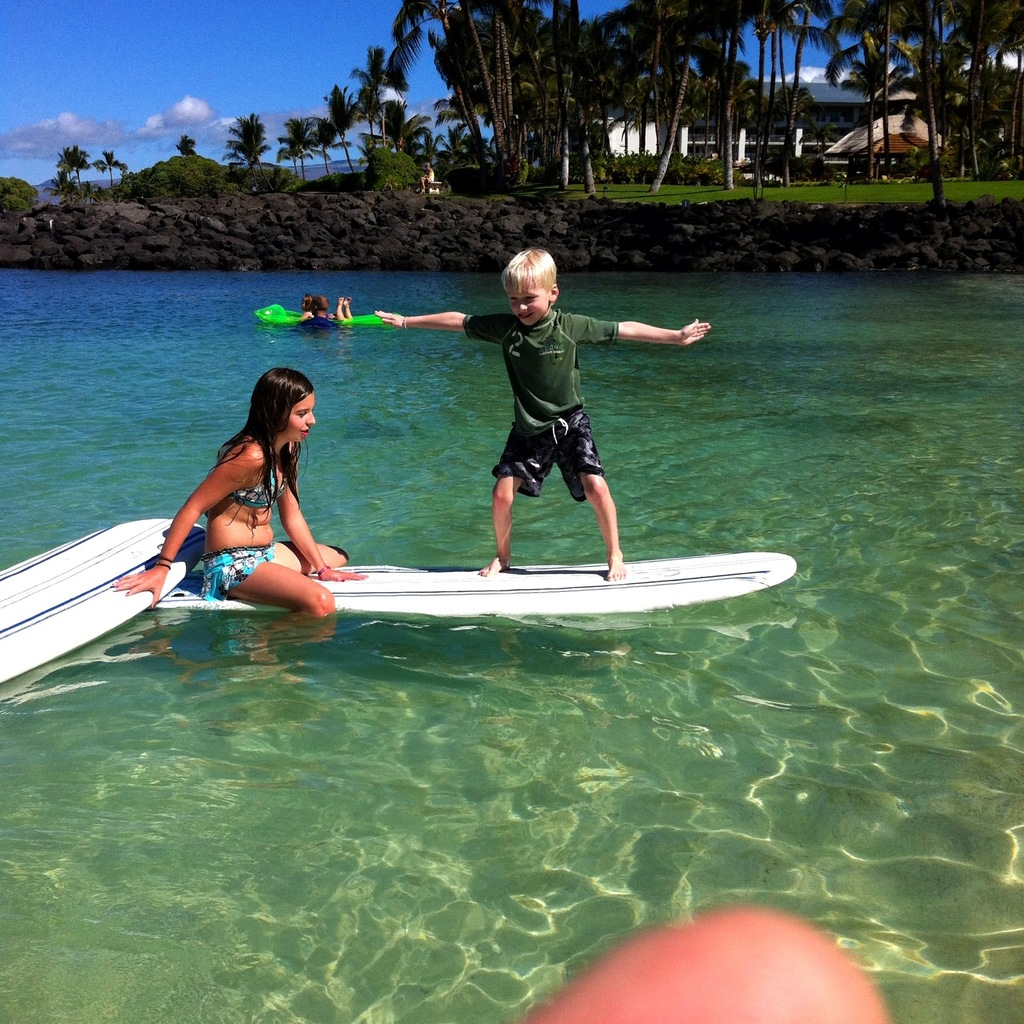Person: (376, 246, 710, 580), (104, 364, 365, 621), (295, 293, 352, 321)
